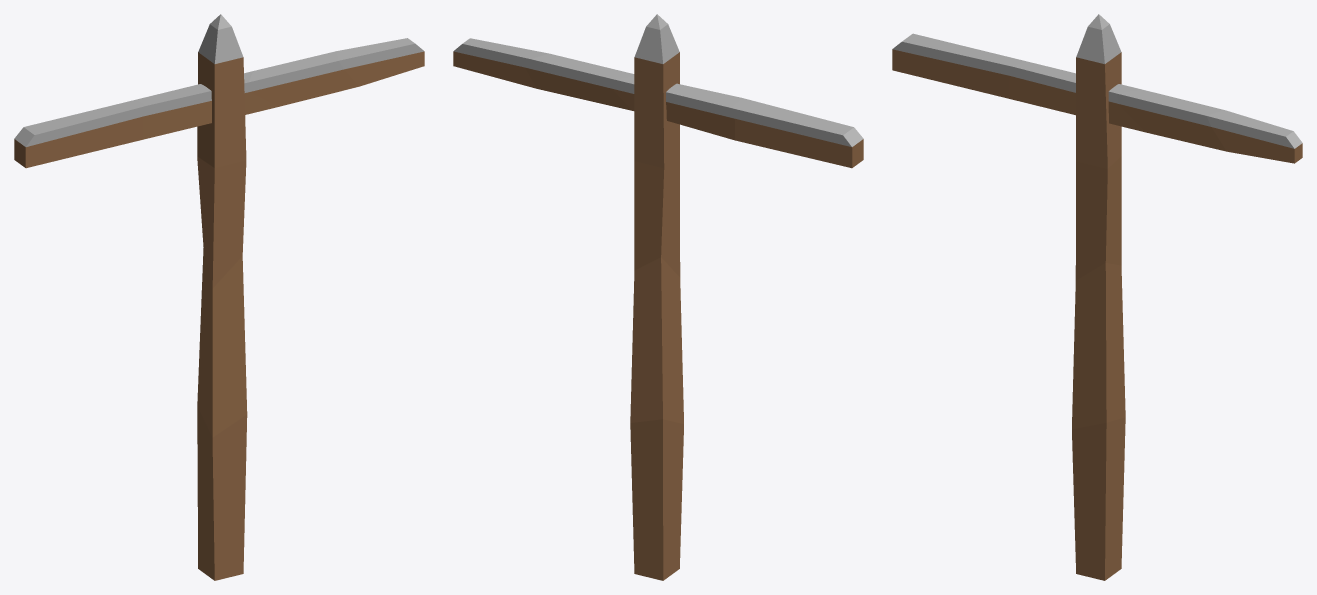
The model's file is SummitCross_1 winter.fbx.
3 renders of one model, left to right at view 1: azimuth 30°, elevation 25°; view 2: azimuth 150°, elevation 25°; view 3: azimuth 330°, elevation 25°, orthographic.
Parts seen in each view (by area): view 1: SummitCrossWinter_mesh; view 2: SummitCrossWinter_mesh; view 3: SummitCrossWinter_mesh.
Part boxes in pixels (x1,y1,x2,y2): SummitCrossWinter_mesh: [14, 14, 424, 580]; SummitCrossWinter_mesh: [453, 14, 863, 580]; SummitCrossWinter_mesh: [892, 14, 1302, 580].
Size of the model in its own units: 488 by 649 by 40.35.
